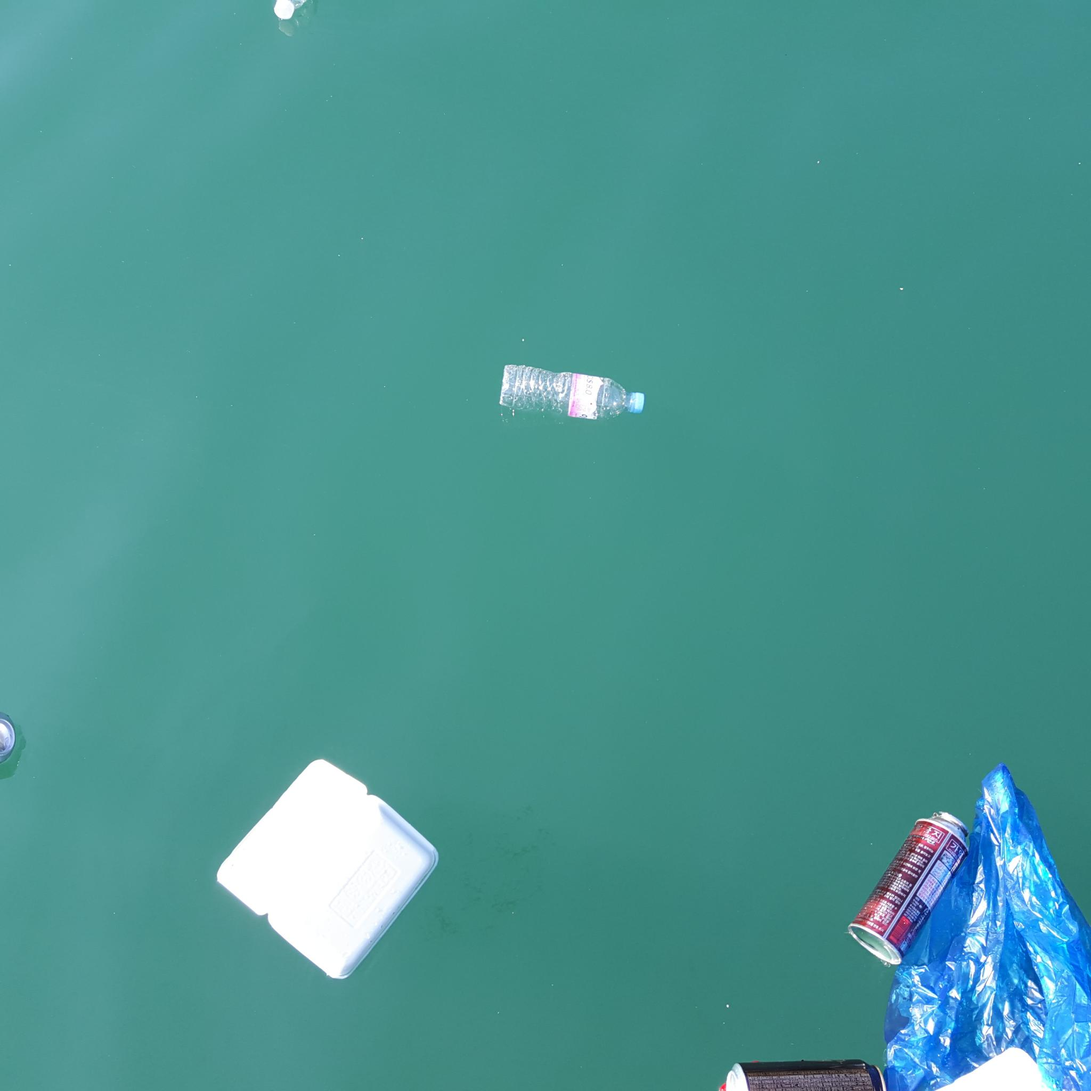sampah_terapung: (884, 762, 1091, 1091), (217, 760, 440, 980), (850, 811, 971, 966), (500, 365, 645, 421), (724, 1060, 888, 1091), (1, 712, 18, 765), (275, 1, 308, 20)
